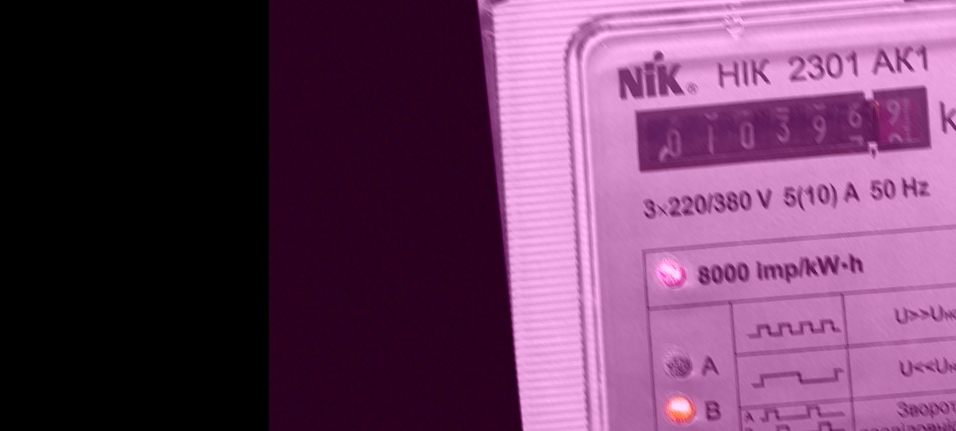0: (733, 115, 758, 151), (660, 123, 684, 158)
1: (701, 120, 717, 154)
3: (771, 110, 793, 144)
6: (842, 98, 865, 129)
9: (806, 110, 829, 145), (879, 95, 903, 127)
screen: (616, 65, 943, 192)
